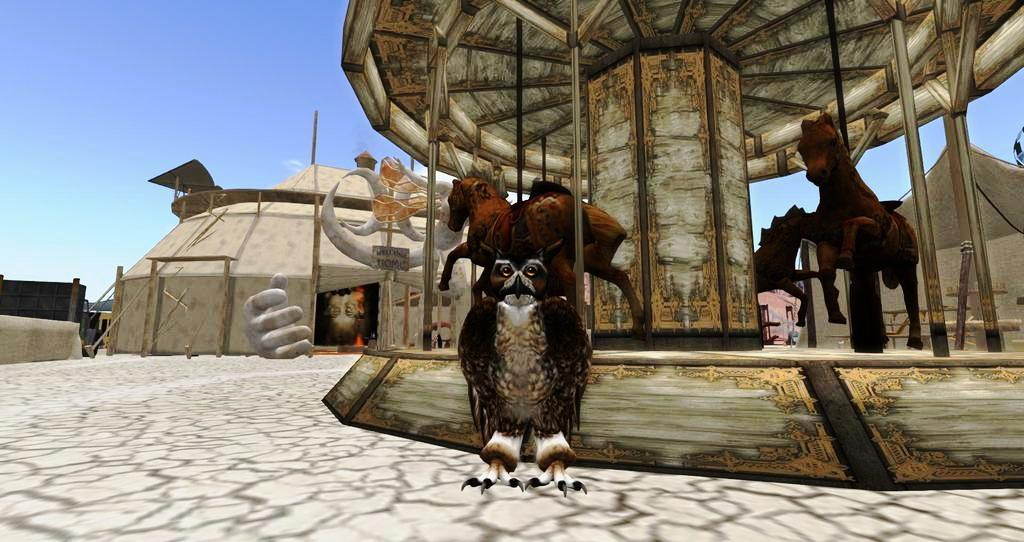Owl: (457, 241, 591, 494)
